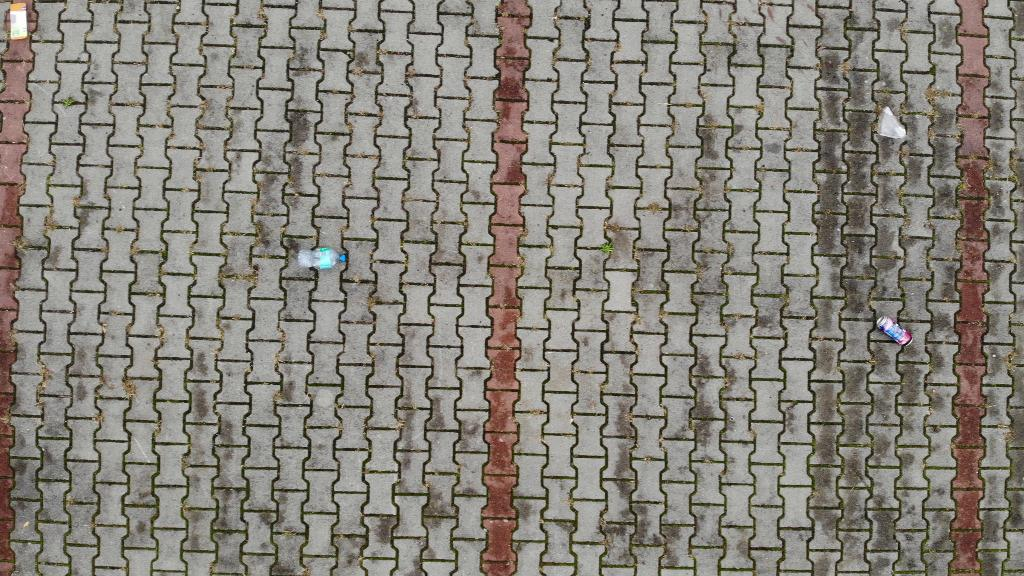garbage: (299, 245, 347, 271), (877, 106, 910, 143), (875, 316, 912, 349)
